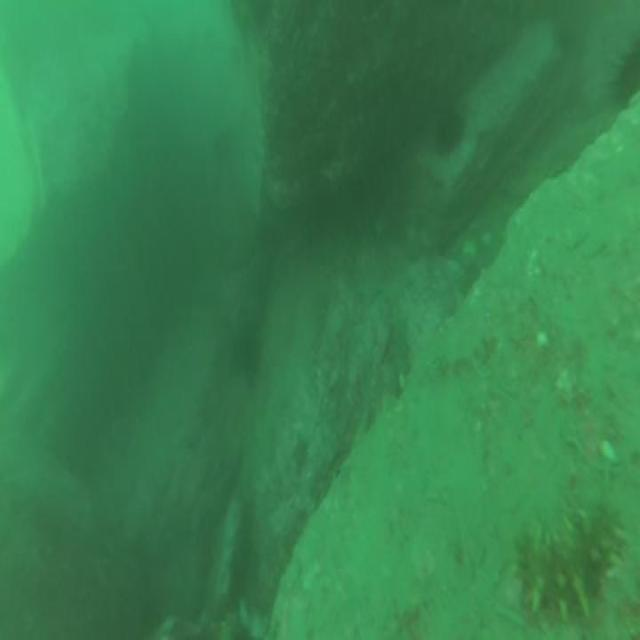echinus: (607, 40, 640, 110), (431, 105, 466, 156)
holothurian: (516, 495, 622, 621)
